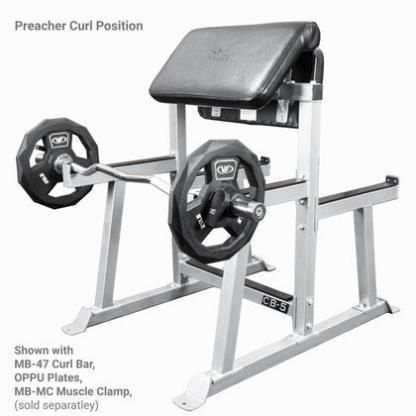arm curl machine: (16, 29, 402, 345)
